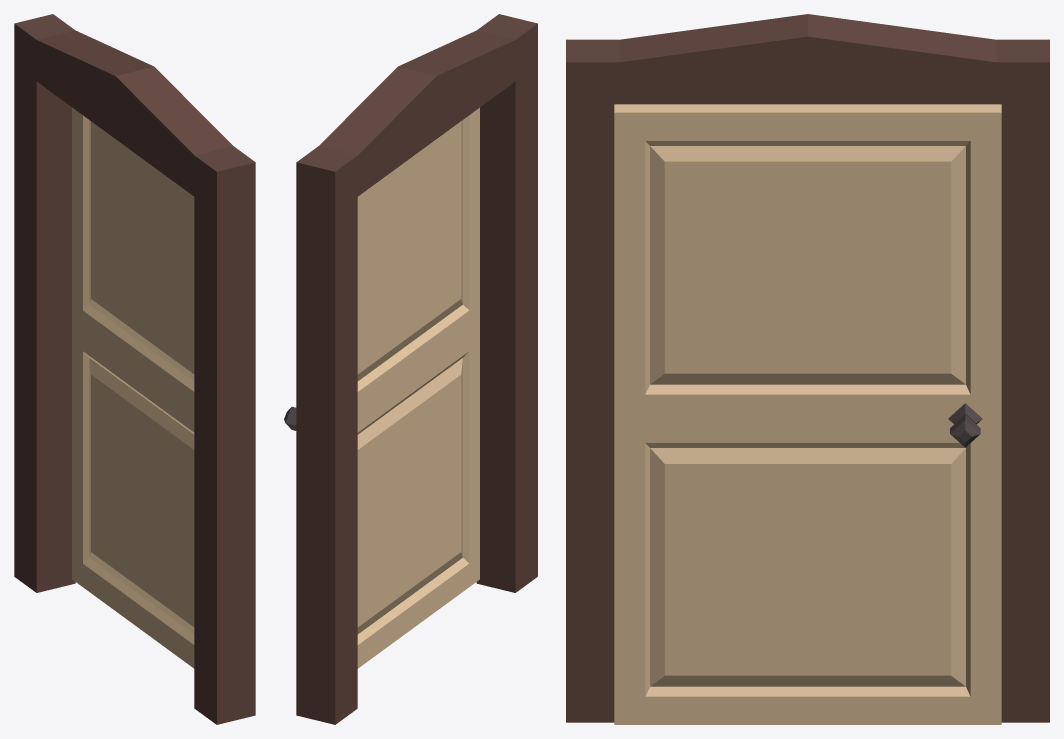
The model's file is Door.fbx.
3 views of the same model, side by side, from view 1: azimuth 30°, elevation 25°; view 2: azimuth 150°, elevation 25°; view 3: azimuth 270°, elevation 25° (orthographic). The views are drawn at different scales.
Parts seen in each view (by area): view 1: Tür, Cube.016; view 2: Tür, Cube.016; view 3: Cube.016, Tür, Cube.017.
Part boxes in pixels (x1,y1,x2,y2): Tür: (14,14,255,724); Cube.016: (72,107,194,668); Tür: (296,14,537,724); Cube.016: (357,107,479,668); Cube.016: (614,104,1001,724); Tür: (566,14,1049,722); Cube.017: (948,403,982,447).
Bounding box in the file's own units: 143 × 933 × 596.
